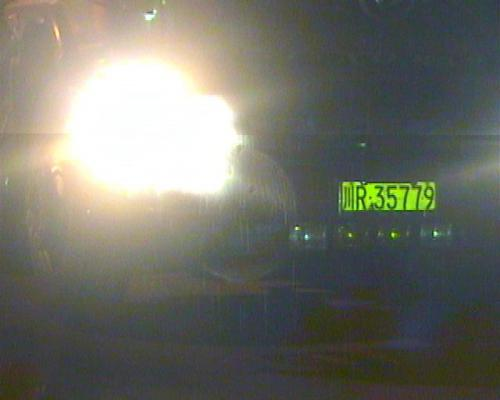Carplate: (335, 174, 444, 219)
